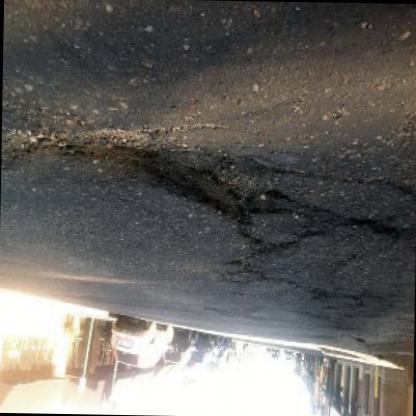pothole: (0, 117, 275, 226), (276, 168, 416, 244)
